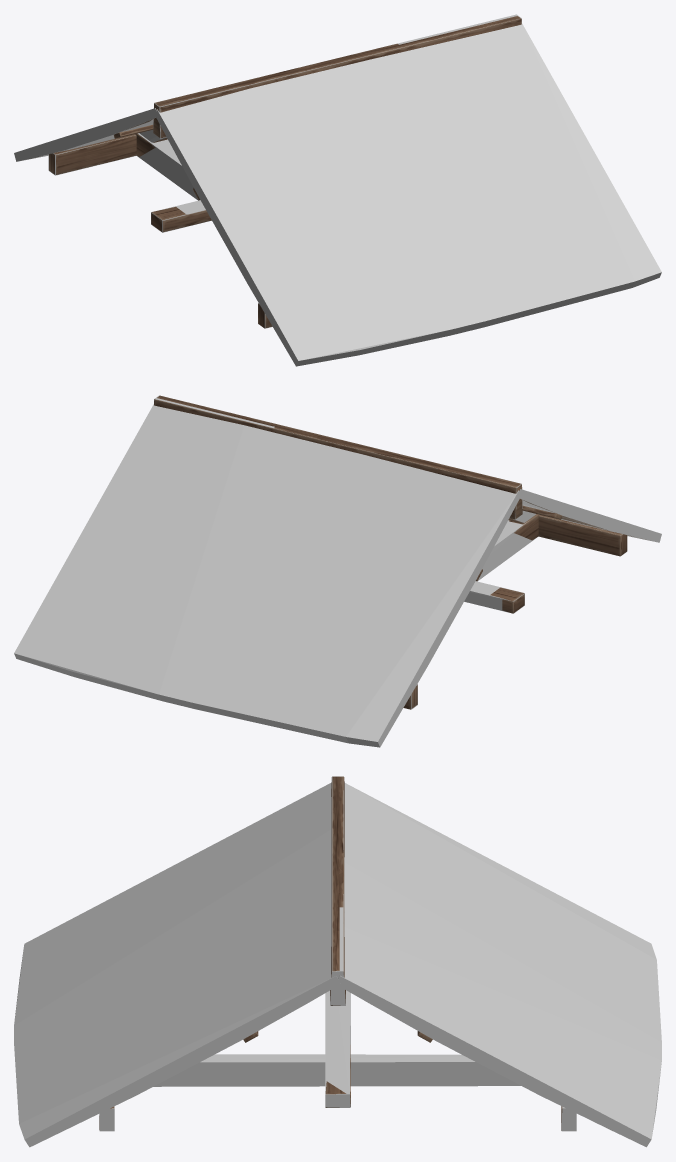
The model's file is SM_Hangar01RM_1.fbx.
The picture shows the model from 3 angles, top to bottom: view 1: azimuth 30°, elevation 25°; view 2: azimuth 150°, elevation 25°; view 3: azimuth 270°, elevation 25°; orthographic projection. The views are drawn at different scales.
Visible parts, largest first — view 1: SM_Hangar01RM_1_ConvexHulls, SM_Hangar01RM_1; view 2: SM_Hangar01RM_1_ConvexHulls, SM_Hangar01RM_1; view 3: SM_Hangar01RM_1_ConvexHulls, SM_Hangar01RM_1.
Part boxes in pixels (x1,y1,x2,y2): SM_Hangar01RM_1_ConvexHulls: (14, 14, 661, 366); SM_Hangar01RM_1: (28, 16, 521, 328); SM_Hangar01RM_1_ConvexHulls: (14, 395, 661, 747); SM_Hangar01RM_1: (154, 395, 652, 709); SM_Hangar01RM_1_ConvexHulls: (14, 776, 661, 1147); SM_Hangar01RM_1: (99, 776, 619, 1134).
Size of the model in its own units: 452 by 631 by 197.
4 materials, 3 textured.
